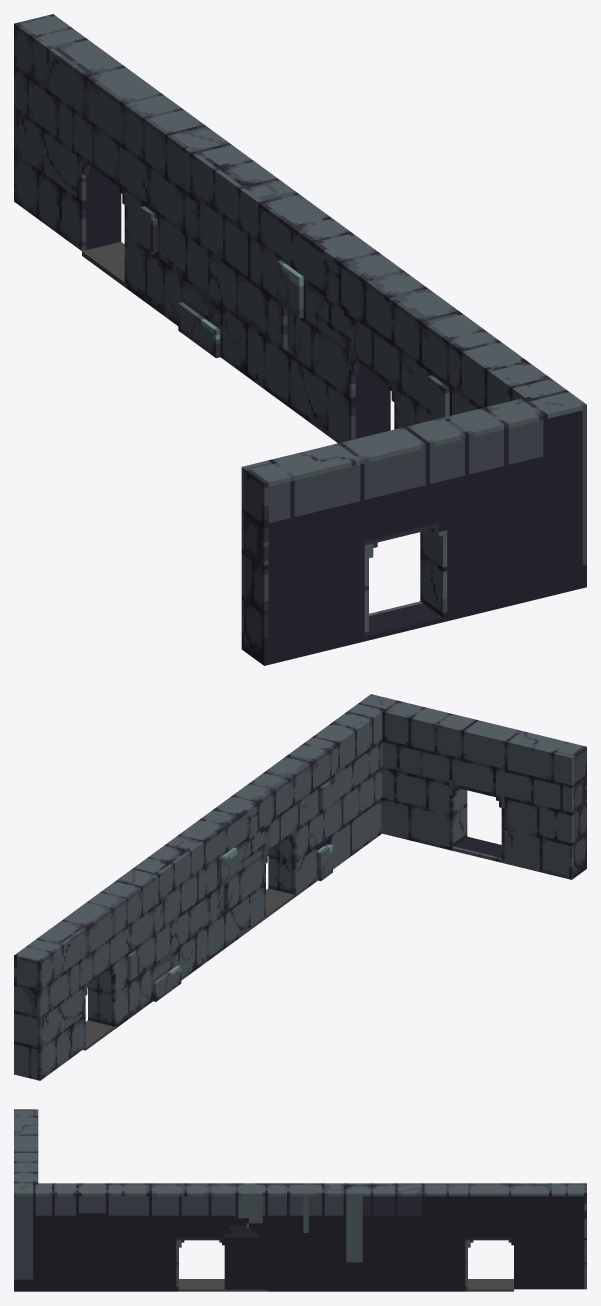
Rendered from castle_cross_hall-5-wall.obj.
3 views of the same model, one above another, from view 1: azimuth 30°, elevation 25°; view 2: azimuth 150°, elevation 25°; view 3: azimuth 270°, elevation 25° (orthographic). The views are drawn at different scales.
Visible parts, largest first — view 1: wall; view 2: wall; view 3: wall.
Boxes of the visible parts, box(x1,y1,x2,y2) form: wall: box(14, 14, 586, 665); wall: box(14, 694, 586, 1080); wall: box(14, 1109, 586, 1291).
Bounding box in the file's own units: 7.4 × 4 × 21.2.
Materials: 1 (1 with a texture image).
